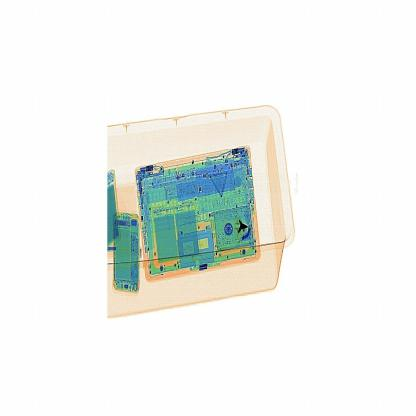gun: (230, 209, 252, 247)
